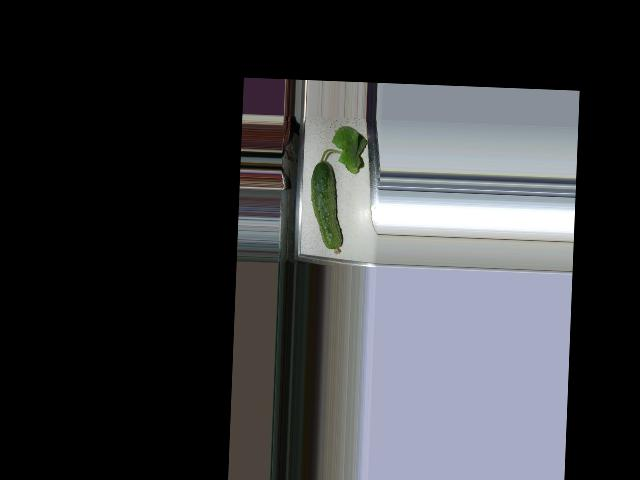cucumber: (308, 159, 345, 254)
